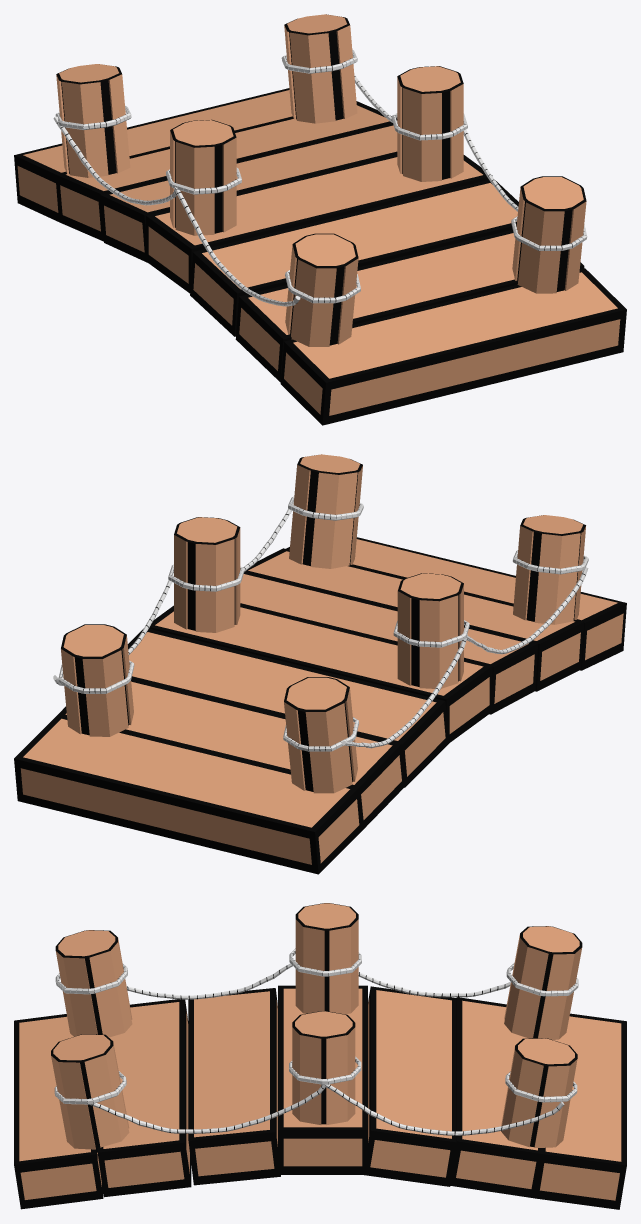
Rendered from CardboardPlatformBridge03.fbx.
The picture shows the model from 3 angles, top to bottom: view 1: azimuth 30°, elevation 25°; view 2: azimuth 150°, elevation 25°; view 3: azimuth 270°, elevation 25°; orthographic projection.
Visible parts, largest first — view 1: Cube.066; view 2: Cube.066; view 3: Cube.066.
Boxes of the visible parts, x1,y1,x2,y2 form: Cube.066: [14, 14, 626, 425]; Cube.066: [14, 454, 626, 874]; Cube.066: [14, 903, 626, 1209].
Size of the model in its own units: 671 by 363 by 1206.
